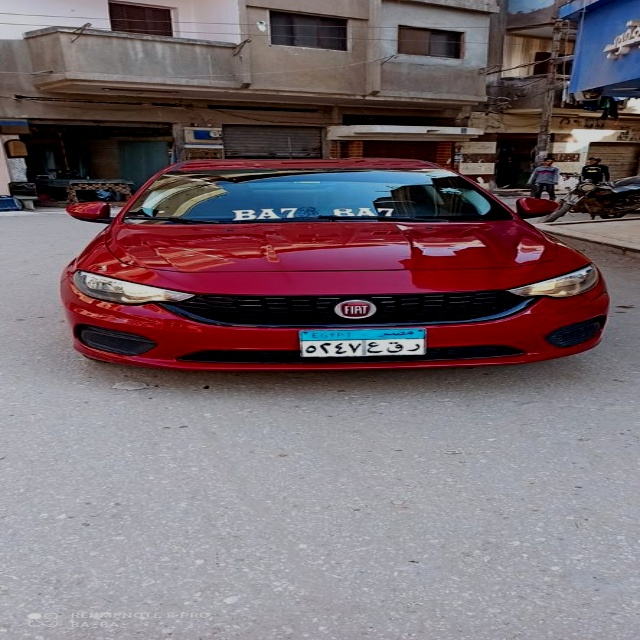License Plate: (297, 326, 431, 359)
